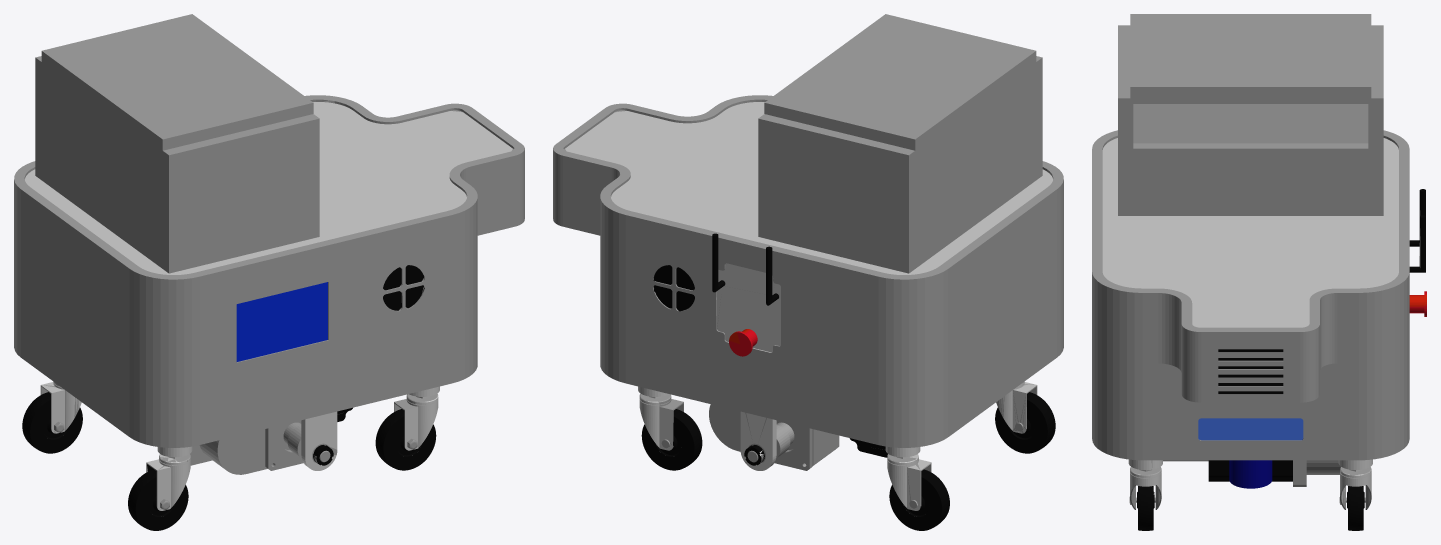
File: mob_plat.dae
The picture shows the model from 3 angles, left to right: view 1: azimuth 30°, elevation 25°; view 2: azimuth 150°, elevation 25°; view 3: azimuth 270°, elevation 25°; orthographic projection.
Visible parts, largest first — view 1: MAR-0807-5; view 2: MAR-0807-5; view 3: MAR-0807-5.
Boxes of the visible parts, box(x1,y1,x2,y2) form: MAR-0807-5: box(14, 14, 524, 530); MAR-0807-5: box(553, 14, 1063, 530); MAR-0807-5: box(1092, 14, 1426, 530).
Size of the model in its own units: 0.784 by 0.542 by 0.701.
